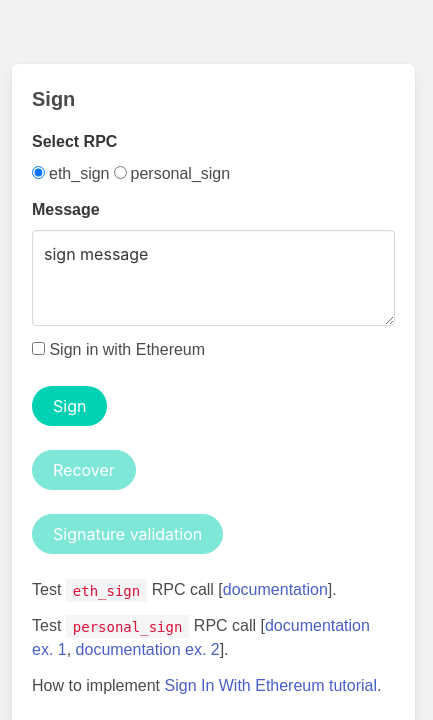
Test: can verify signature
Click the button with test id "sign". click: [70, 406]
box: [32,386,107,426]
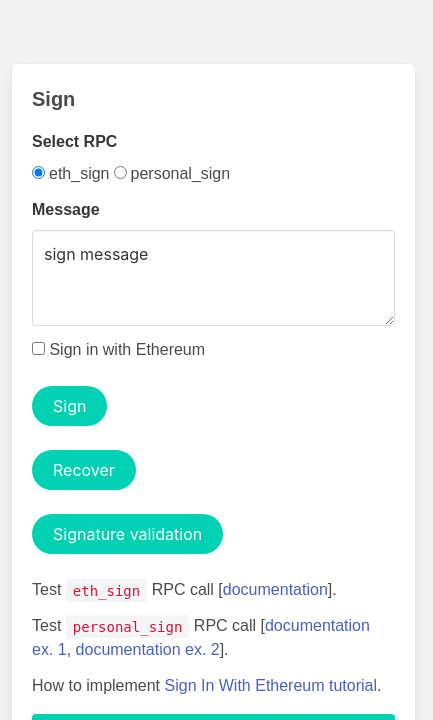
Click the button with test id "validate-signature". click: [128, 534]
box: [32,514,223,554]
(page scrolled)
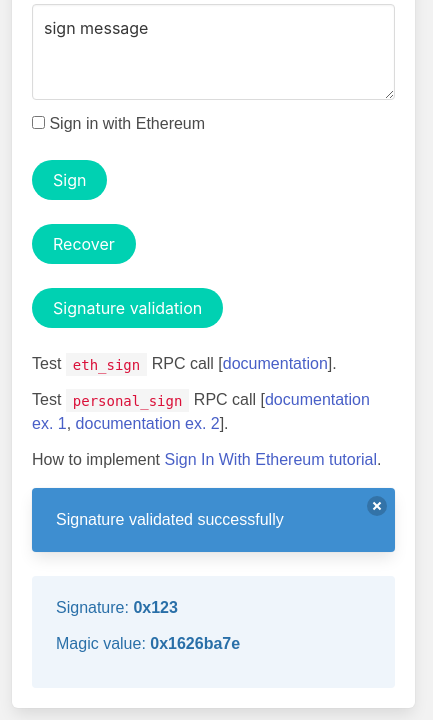
Check: the element with test id "notification" reads "Signature validated successfully", box [56,511,284,528]
Check: the text with test id "magic-value" reads "0x1626ba7e", box [150,635,240,652]
